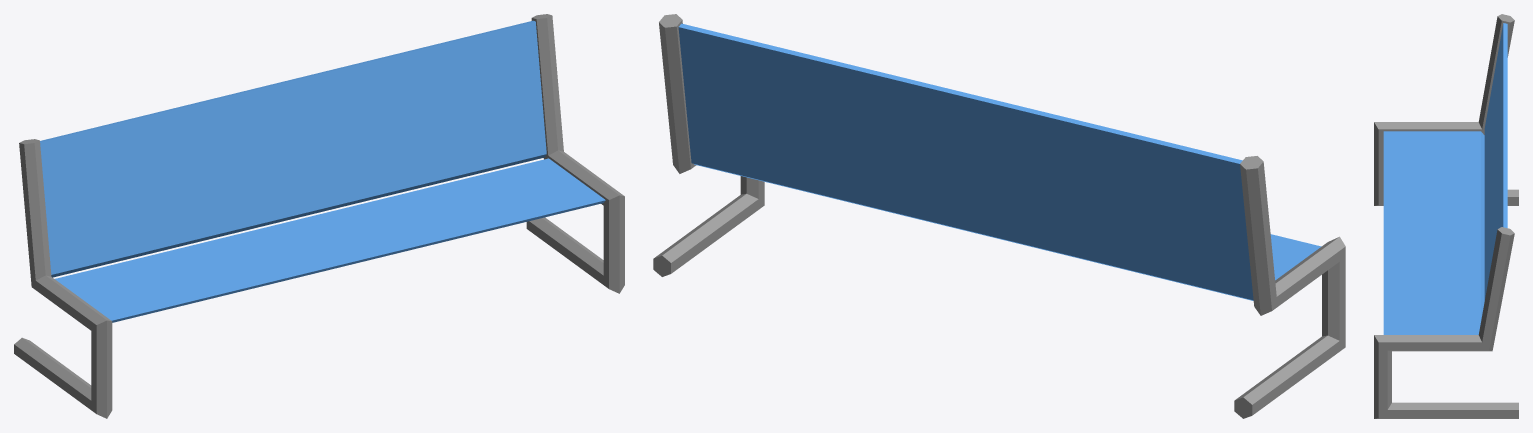
The model's file is SM_Bench_01_04.FBX.
3 views of the same model, side by side, from view 1: azimuth 30°, elevation 25°; view 2: azimuth 150°, elevation 25°; view 3: azimuth 270°, elevation 25° (orthographic). The views are drawn at different scales.
Visible parts, largest first — view 1: SM_Bench_01_04; view 2: SM_Bench_01_04; view 3: SM_Bench_01_04.
Boxes of the visible parts, x1,y1,x2,y2 form: SM_Bench_01_04: (14, 14, 624, 418); SM_Bench_01_04: (653, 14, 1345, 418); SM_Bench_01_04: (1374, 14, 1518, 418).
Size of the model in its own units: 1.7 by 0.6865 by 0.4749.
Materials: 1 (1 with a texture image).
